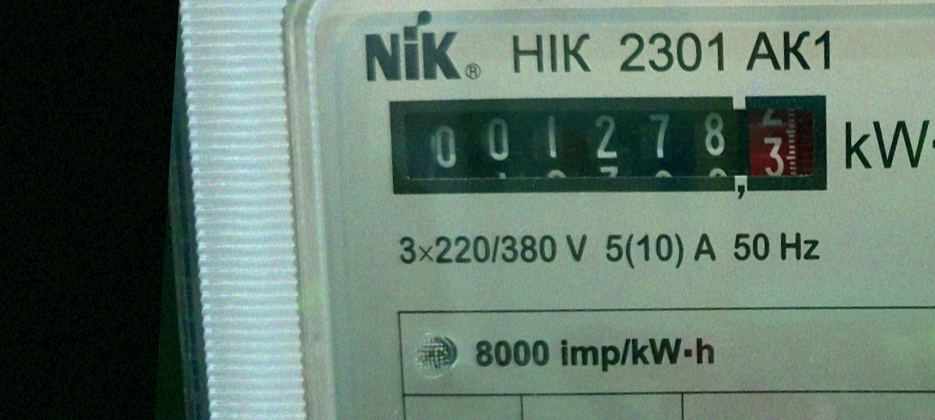0: (430, 120, 461, 170), (483, 114, 511, 162)
1: (542, 111, 561, 161)
2: (590, 111, 620, 160), (757, 106, 784, 128)
3: (758, 131, 787, 176)
7: (645, 110, 670, 160)
8: (699, 109, 727, 158)
screen: (364, 58, 848, 229)
